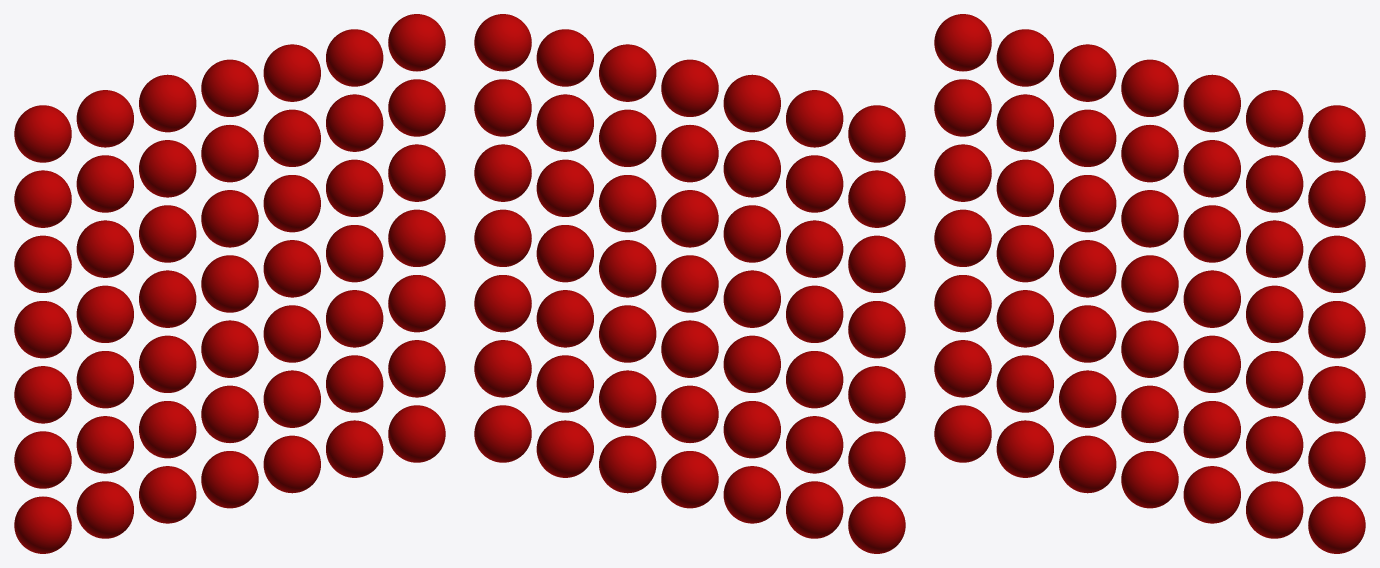
File: pbr_spheres.glb
The picture shows the model from 3 angles, left to right: view 1: azimuth 30°, elevation 25°; view 2: azimuth 150°, elevation 25°; view 3: azimuth 330°, elevation 25°; orthographic projection.
Visible parts, largest first — view 1: Sphere_r1_c0, Sphere_r2_c2, Sphere_r4_c4, Sphere_r5_c6, Sphere_r1_c3, Sphere_r2_c1, Sphere_r2_c3, Sphere_r2_c6, Sphere_r3_c2, Sphere_r3_c4, Sphere_r4_c0, Sphere_r4_c3 (+37 smaller); view 2: Sphere_r1_c0, Sphere_r2_c2, Sphere_r4_c4, Sphere_r5_c6, Sphere_r1_c3, Sphere_r2_c1, Sphere_r2_c3, Sphere_r2_c6, Sphere_r3_c2, Sphere_r3_c4, Sphere_r4_c0, Sphere_r4_c3 (+37 smaller); view 3: Sphere_r1_c6, Sphere_r2_c4, Sphere_r4_c2, Sphere_r5_c0, Sphere_r1_c3, Sphere_r2_c0, Sphere_r2_c3, Sphere_r2_c5, Sphere_r3_c2, Sphere_r3_c4, Sphere_r4_c1, Sphere_r4_c3 (+37 smaller).
Part boxes in pixels (x1,y1,x2,y2): Sphere_r1_c0: [14, 170, 71, 227]; Sphere_r2_c2: [139, 205, 196, 262]; Sphere_r4_c4: [263, 305, 320, 362]; Sphere_r5_c6: [388, 340, 445, 397]; Sphere_r1_c3: [201, 125, 258, 182]; Sphere_r2_c1: [76, 220, 133, 277]; Sphere_r2_c3: [201, 190, 258, 247]; Sphere_r2_c6: [388, 144, 445, 201]; Sphere_r3_c2: [139, 270, 196, 327]; Sphere_r3_c4: [263, 240, 320, 297]; Sphere_r4_c0: [14, 366, 71, 423]; Sphere_r4_c3: [201, 320, 258, 377]; Sphere_r1_c0: [848, 170, 905, 227]; Sphere_r2_c2: [723, 205, 780, 262]; Sphere_r4_c4: [599, 305, 656, 362]; Sphere_r5_c6: [474, 340, 531, 397]; Sphere_r1_c3: [661, 125, 718, 182]; Sphere_r2_c1: [786, 220, 843, 277]; Sphere_r2_c3: [661, 190, 718, 247]; Sphere_r2_c6: [474, 144, 531, 201]; Sphere_r3_c2: [723, 270, 780, 327]; Sphere_r3_c4: [599, 240, 656, 297]; Sphere_r4_c0: [848, 366, 905, 423]; Sphere_r4_c3: [661, 320, 718, 377]; Sphere_r1_c6: [1308, 170, 1365, 227]; Sphere_r2_c4: [1183, 205, 1240, 262]; Sphere_r4_c2: [1059, 305, 1116, 362]; Sphere_r5_c0: [934, 340, 991, 397]; Sphere_r1_c3: [1121, 125, 1178, 182]; Sphere_r2_c0: [934, 144, 991, 201]; Sphere_r2_c3: [1121, 190, 1178, 247]; Sphere_r2_c5: [1246, 220, 1303, 277]; Sphere_r3_c2: [1059, 240, 1116, 297]; Sphere_r3_c4: [1183, 270, 1240, 327]; Sphere_r4_c1: [996, 290, 1053, 347]; Sphere_r4_c3: [1121, 320, 1178, 377].
Bounding box in the file's own units: 17 × 17 × 2.
